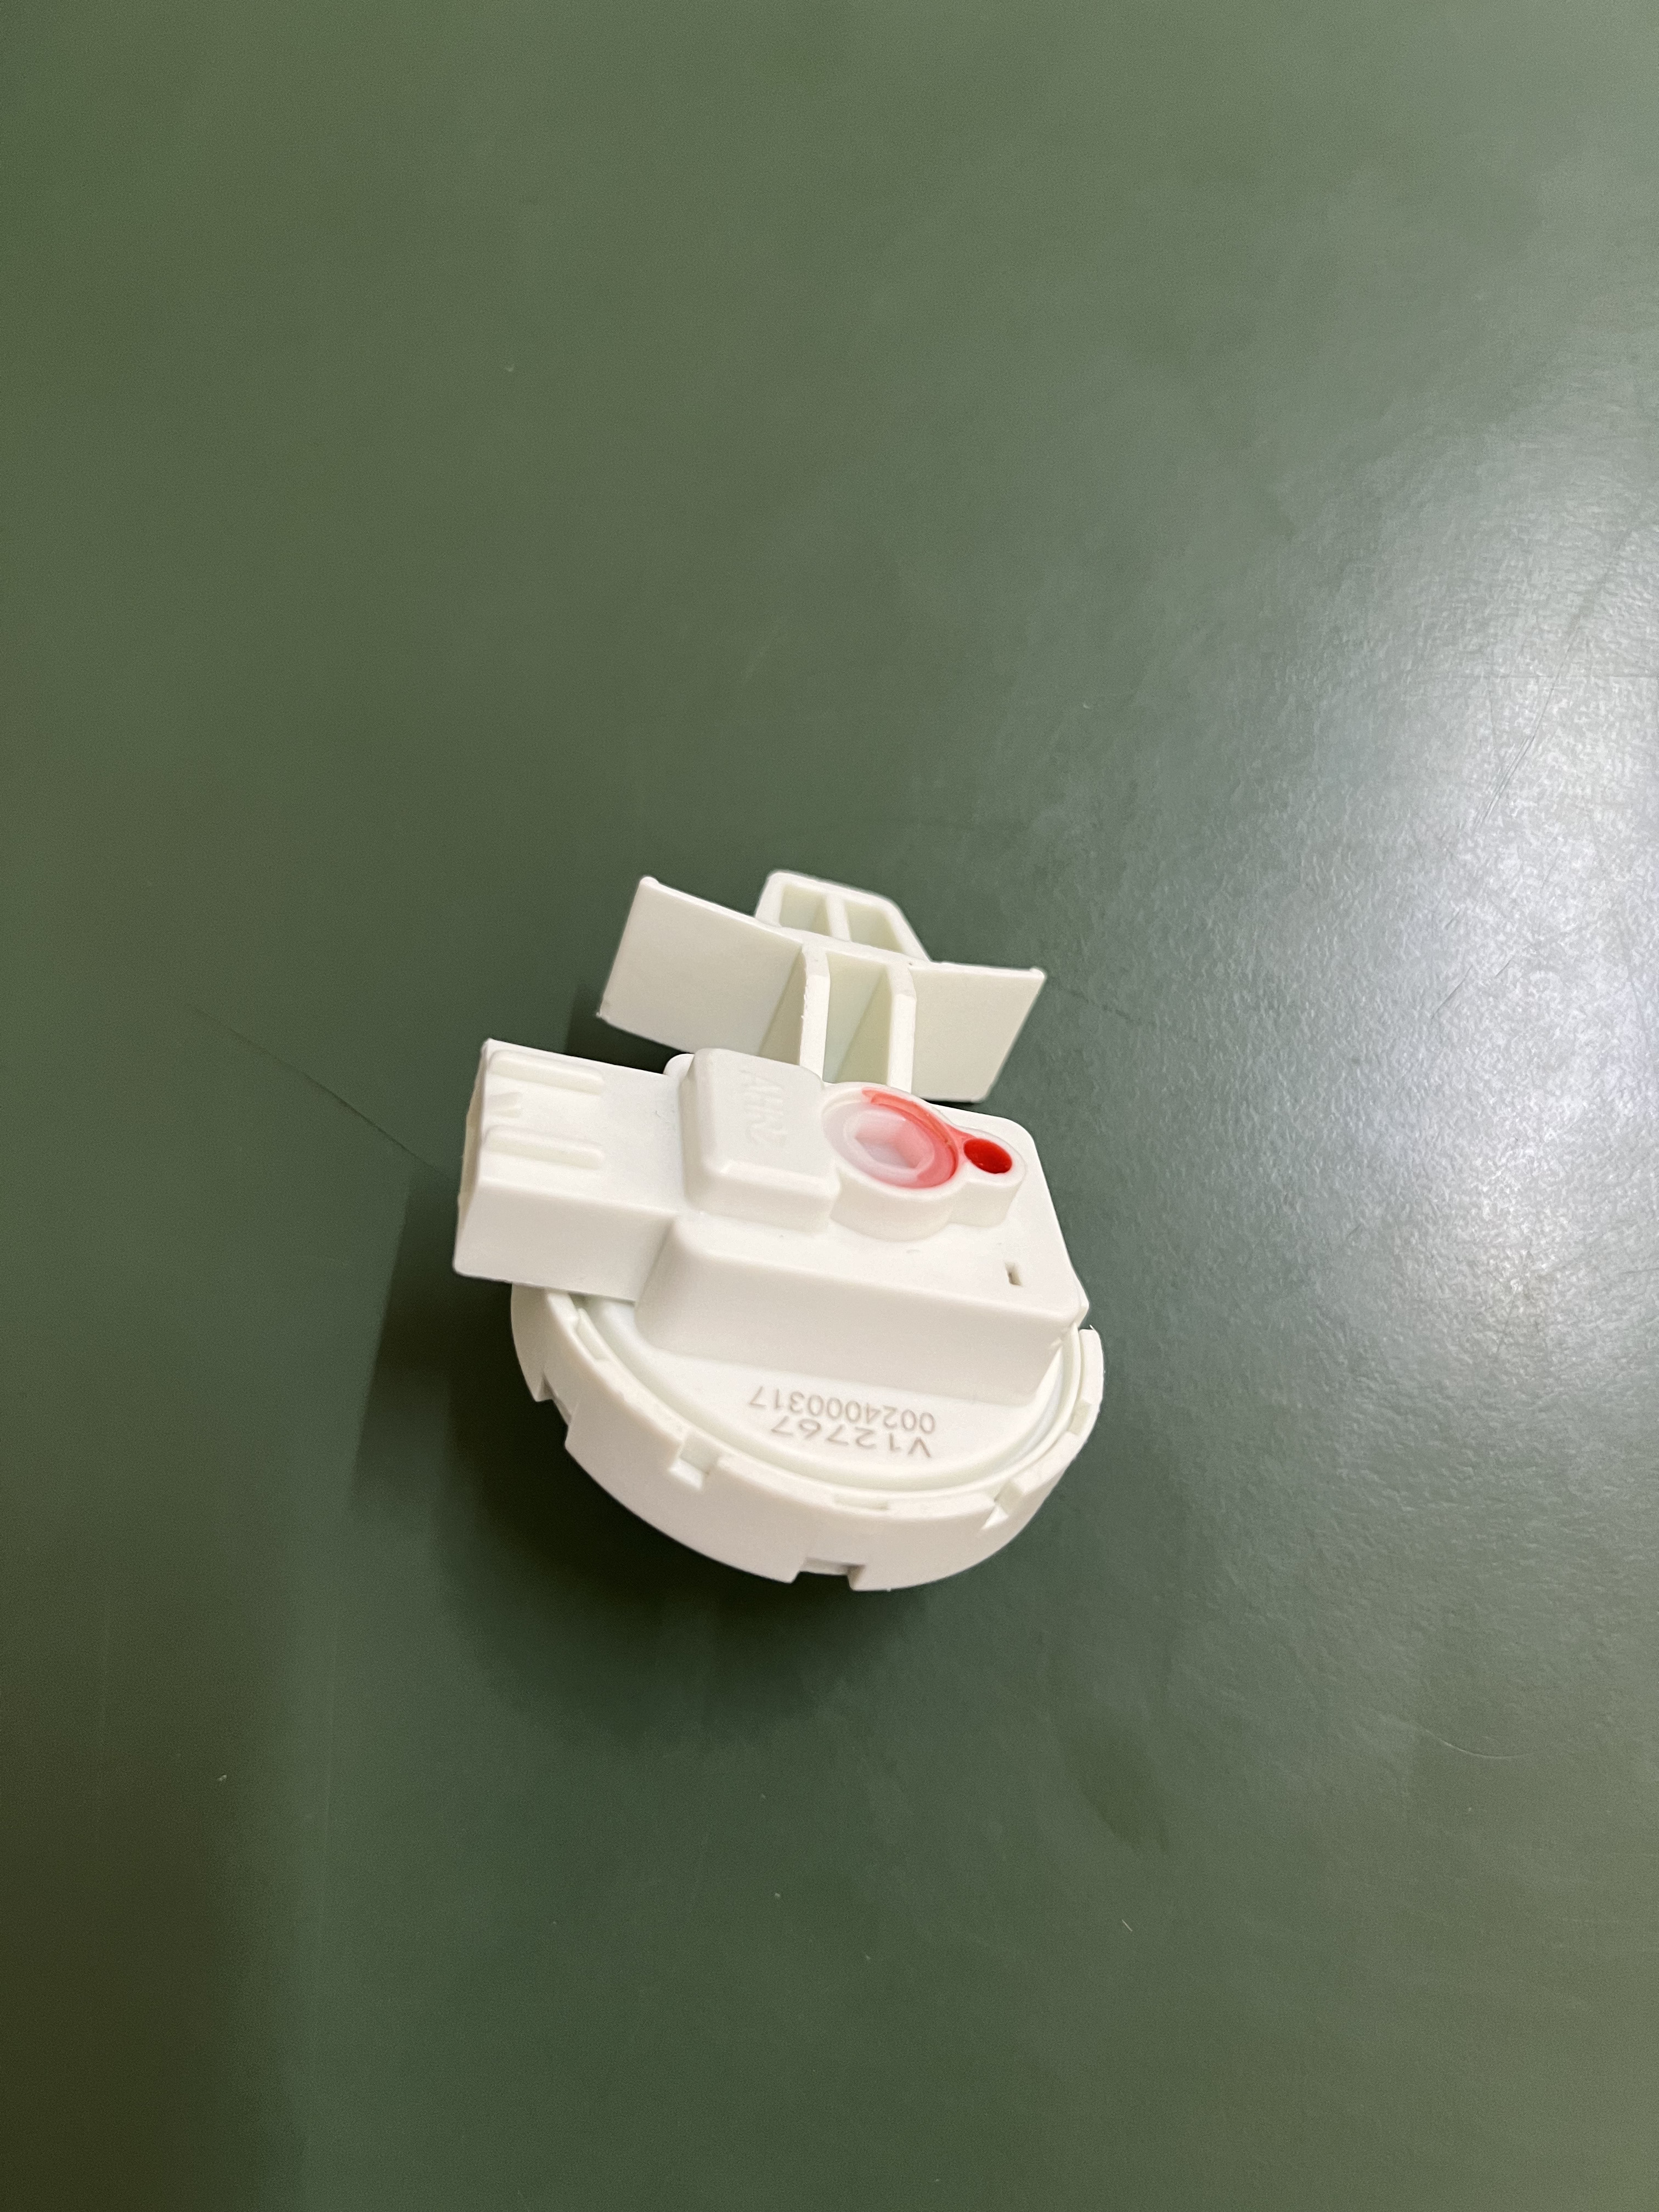pressure_switch_2: (450, 857, 1209, 1630)
